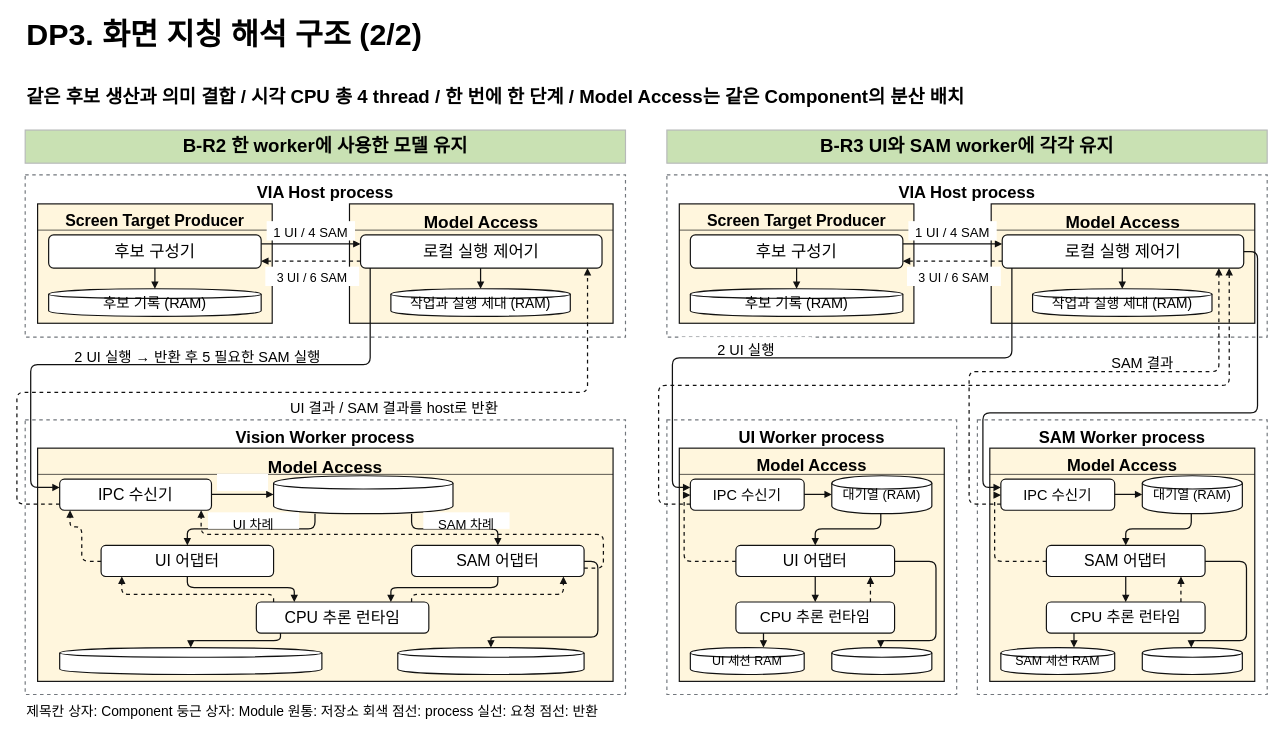
Some shapes in this 1280 by 731 pixel diagram are drawn without their labels. The centre of each missing label's shape, as x and y in pixels:
"5 UI 결과로 seed 확정 후 필요한 SAM 실행" belongs at pixel 1122 401.
"UI + SAM 모델 세션 (RAM)" belongs at pixel 190 661.
"UI 결과 host 반환" belongs at pixel 897 397.
"UI 상태 RAM" belongs at pixel 881 661.
"실행 대기열 (RAM)" belongs at pixel 363 494.
"영상 상태 RAM" belongs at pixel 1192 661.
"영상 작업 상태 (RAM)" belongs at pixel 490 661.
"접수" belongs at pixel 242 482.
